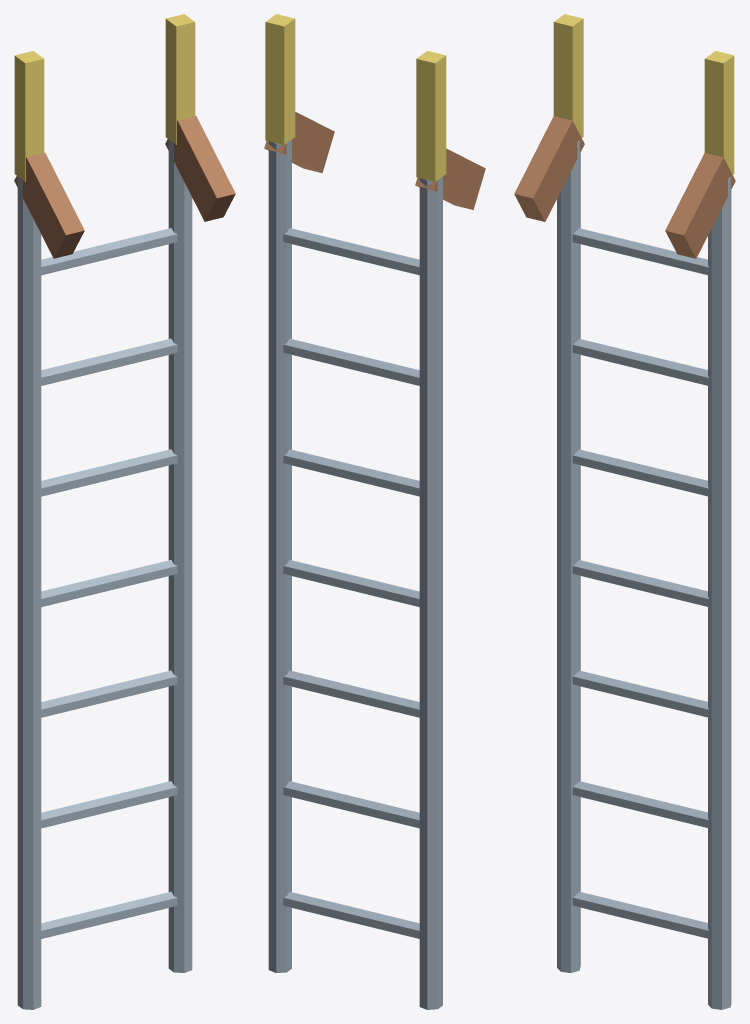
The model's file is wipe-day-survival-island-scaffold-ladder-49b8ed17__27508.glb.
The picture shows the model from 3 angles, left to right: view 1: azimuth 30°, elevation 25°; view 2: azimuth 150°, elevation 25°; view 3: azimuth 330°, elevation 25°; orthographic projection.
Parts seen in each view (by area): view 1: scaffold-ladder; view 2: scaffold-ladder; view 3: scaffold-ladder.
Part boxes in pixels (x1=…): scaffold-ladder: x1=14, y1=14, x2=235, y2=1009; scaffold-ladder: x1=264, y1=14, x2=485, y2=1009; scaffold-ladder: x1=514, y1=14, x2=735, y2=1009.
Bounding box in the file's own units: 0.4542 × 2.4 × 0.2381.
